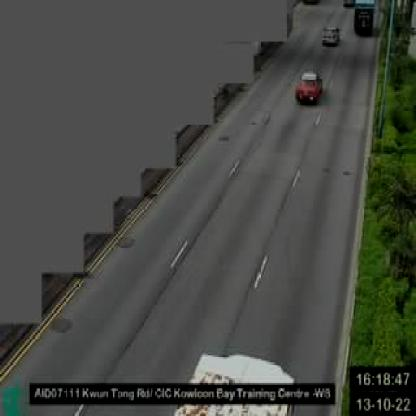Car: (296, 71, 323, 104), (322, 26, 340, 47)
Truck: (353, 0, 377, 38)
